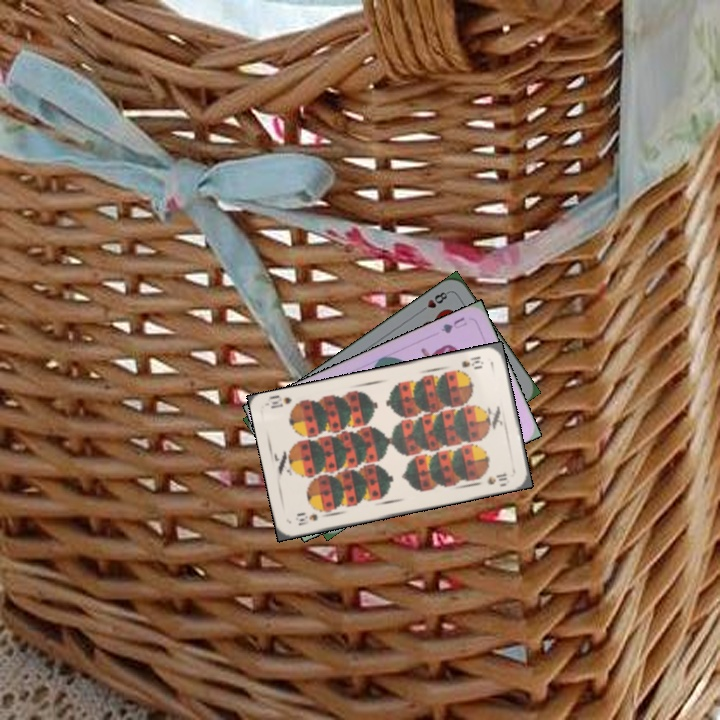GU: (437, 313, 469, 336)
H8: (416, 287, 452, 315)
S10: (291, 509, 320, 528), (458, 352, 486, 371)
